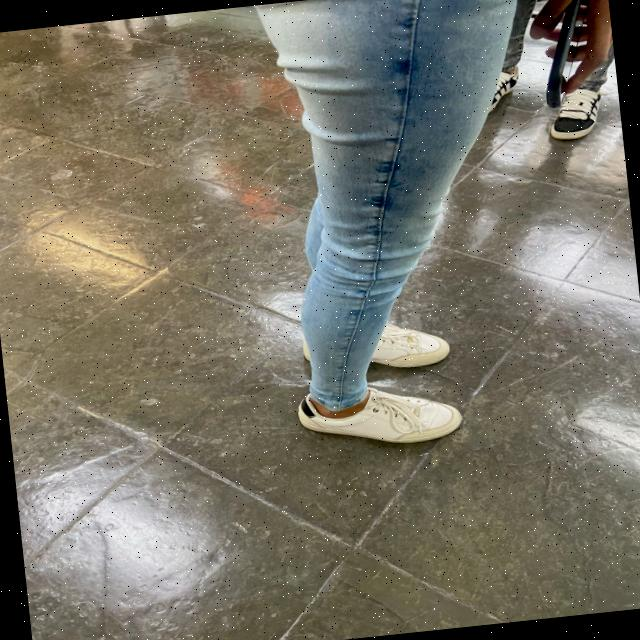SEM BOTA: (295, 383, 463, 443), (300, 317, 447, 367), (547, 85, 606, 142), (475, 63, 528, 115)
